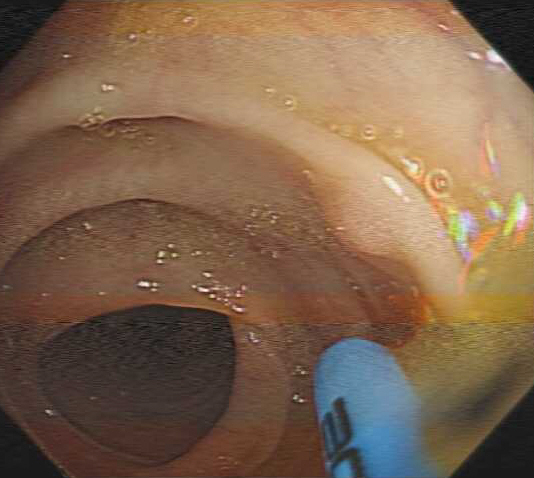adenoma: (304, 169, 408, 262)
